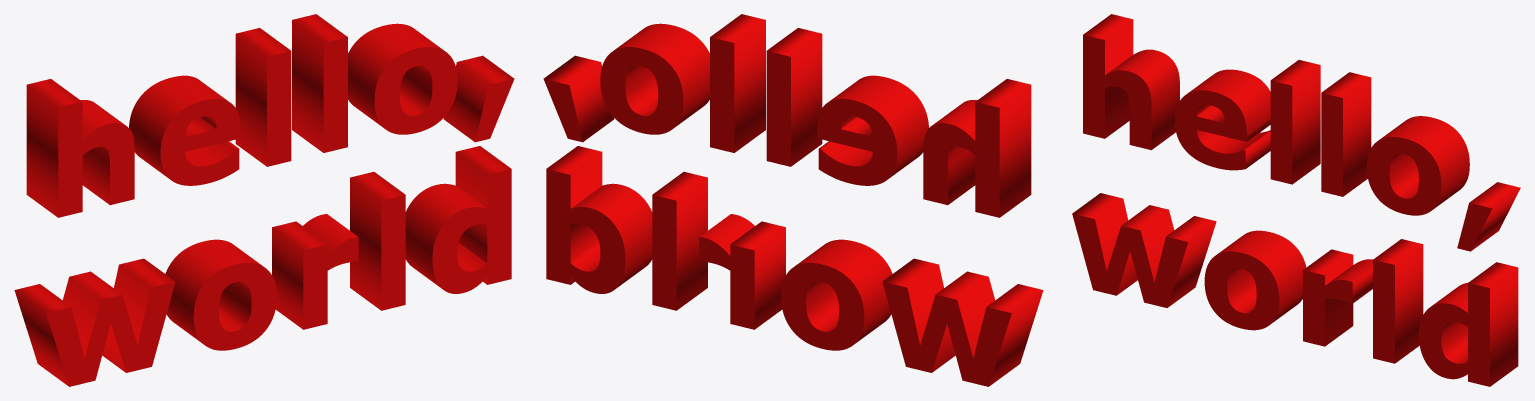
File: hello-world.dae
The picture shows the model from 3 angles, left to right: view 1: azimuth 30°, elevation 25°; view 2: azimuth 150°, elevation 25°; view 3: azimuth 330°, elevation 25°; orthographic projection. The views are drawn at different scales.
Visible parts, largest first — view 1: Hello; view 2: Hello; view 3: Hello.
Boxes of the visible parts, x1,y1,x2,y2 form: Hello: [14, 14, 514, 386]; Hello: [543, 14, 1043, 386]; Hello: [1072, 14, 1520, 386].
Size of the model in its own units: 2.57 by 0.3 by 1.49.
